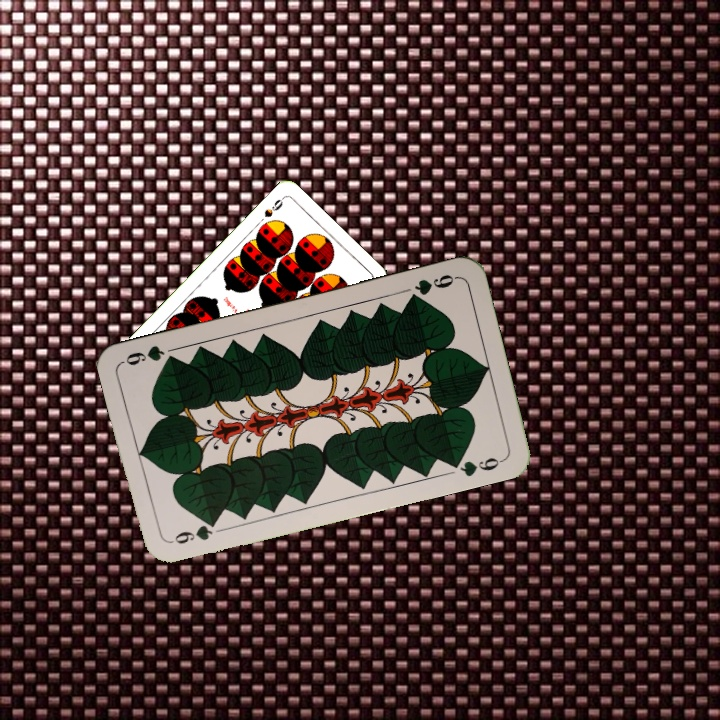G9: (404, 270, 460, 304), (166, 516, 221, 547)
S9: (260, 193, 287, 220)
